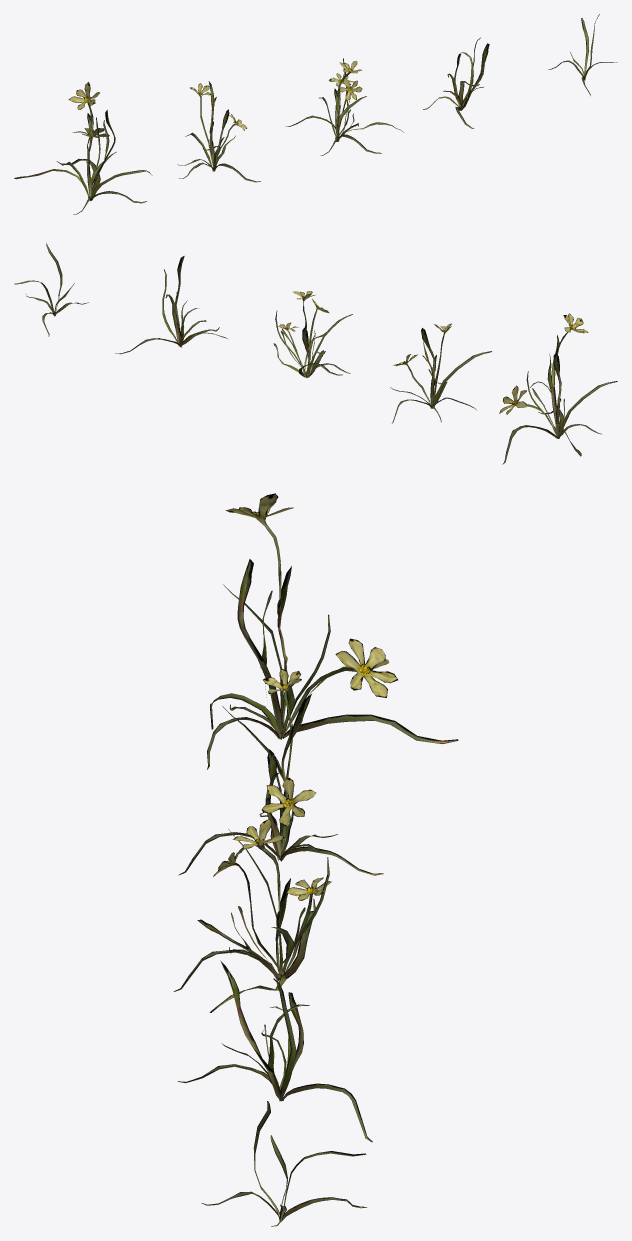
The model's file is flower_empodium.gltf.
3 renders of one model, top to bottom at view 1: azimuth 30°, elevation 25°; view 2: azimuth 150°, elevation 25°; view 3: azimuth 270°, elevation 25°, orthographic. The views are drawn at different scales.
Parts seen in each view (by area): view 1: flower_empodium_a_LOD0, flower_empodium_c_LOD0, flower_empodium_b_LOD0, flower_empodium_d_LOD0, flower_empodium_e_LOD0; view 2: flower_empodium_a_LOD0, flower_empodium_c_LOD0, flower_empodium_b_LOD0, flower_empodium_d_LOD0, flower_empodium_e_LOD0; view 3: flower_empodium_a_LOD0, flower_empodium_c_LOD0, flower_empodium_b_LOD0, flower_empodium_d_LOD0, flower_empodium_e_LOD0.
Boxes of the visible parts, left/top/right/bottom form: flower_empodium_a_LOD0: left=14, top=82, right=152, bottom=214; flower_empodium_c_LOD0: left=285, top=58, right=403, bottom=155; flower_empodium_b_LOD0: left=177, top=81, right=260, bottom=182; flower_empodium_d_LOD0: left=423, top=37, right=489, bottom=128; flower_empodium_e_LOD0: left=548, top=14, right=617, bottom=95; flower_empodium_a_LOD0: left=499, top=313, right=617, bottom=464; flower_empodium_c_LOD0: left=273, top=291, right=352, bottom=377; flower_empodium_b_LOD0: left=390, top=323, right=491, bottom=423; flower_empodium_d_LOD0: left=115, top=256, right=227, bottom=354; flower_empodium_e_LOD0: left=14, top=243, right=88, bottom=336; flower_empodium_a_LOD0: left=207, top=493, right=458, bottom=769; flower_empodium_c_LOD0: left=174, top=818, right=331, bottom=1012; flower_empodium_b_LOD0: left=178, top=668, right=383, bottom=875; flower_empodium_d_LOD0: left=178, top=960, right=372, bottom=1142; flower_empodium_e_LOD0: left=201, top=1101, right=366, bottom=1226.
Size of the model in its own units: 1.32 by 0.2684 by 0.2841.
1 material, 1 textured.
